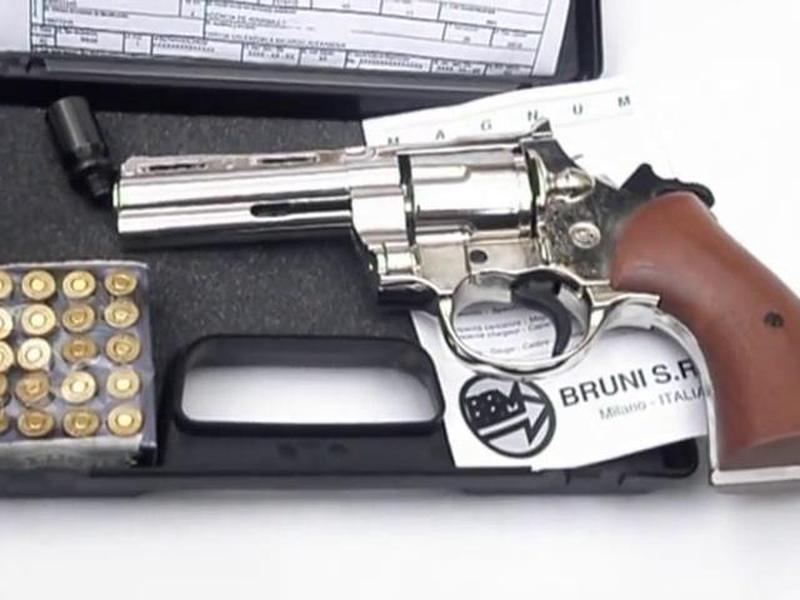Revolver: (102, 104, 737, 434)
